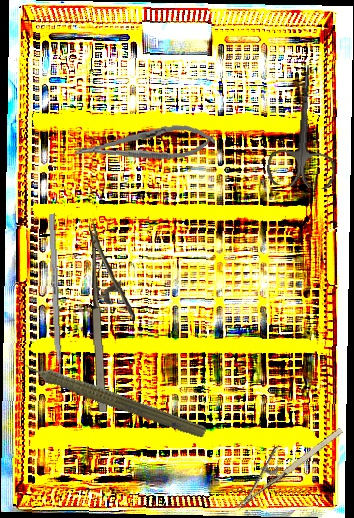Handpiece: (7, 348, 211, 443)
Iris Scissors: (265, 62, 344, 190)
Needle Holder: (221, 410, 346, 510), (89, 220, 137, 413), (72, 120, 217, 169)
Pusher: (47, 213, 65, 400)
